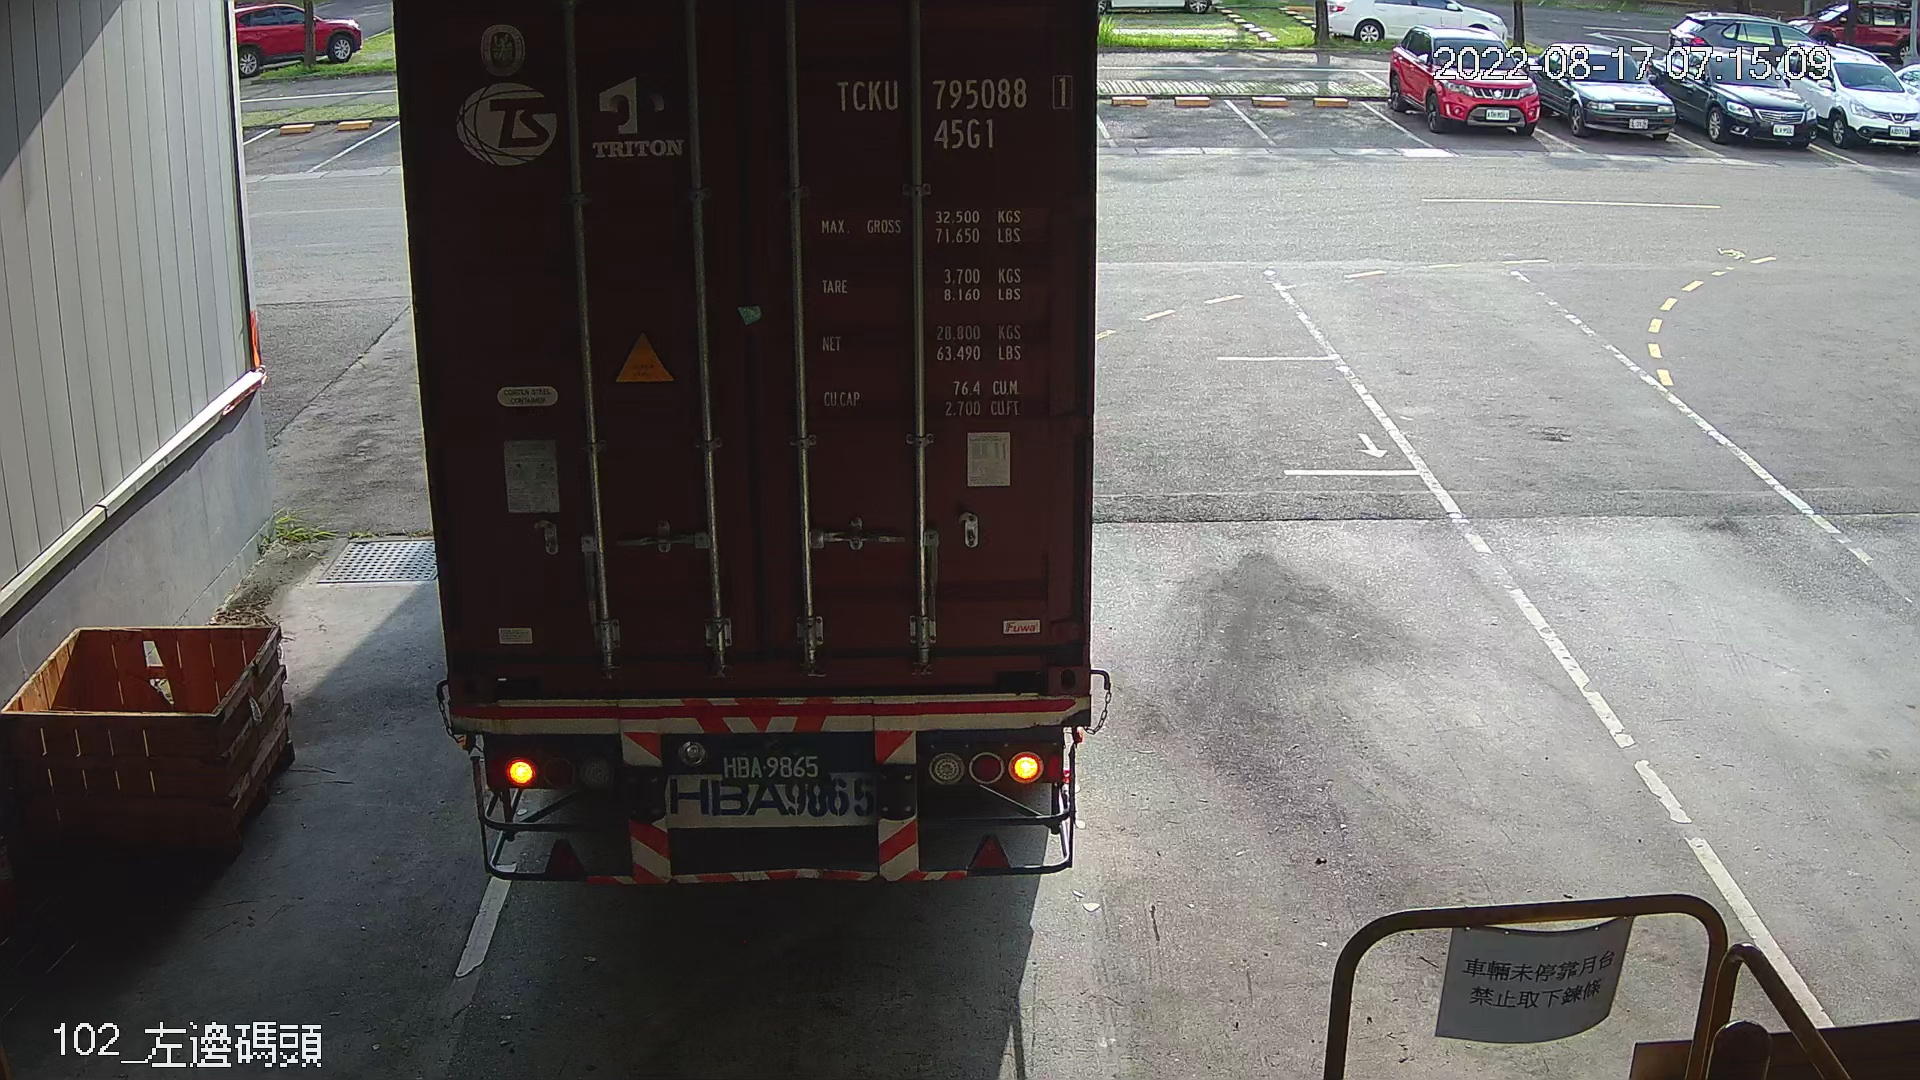container: (823, 61, 1083, 158)
